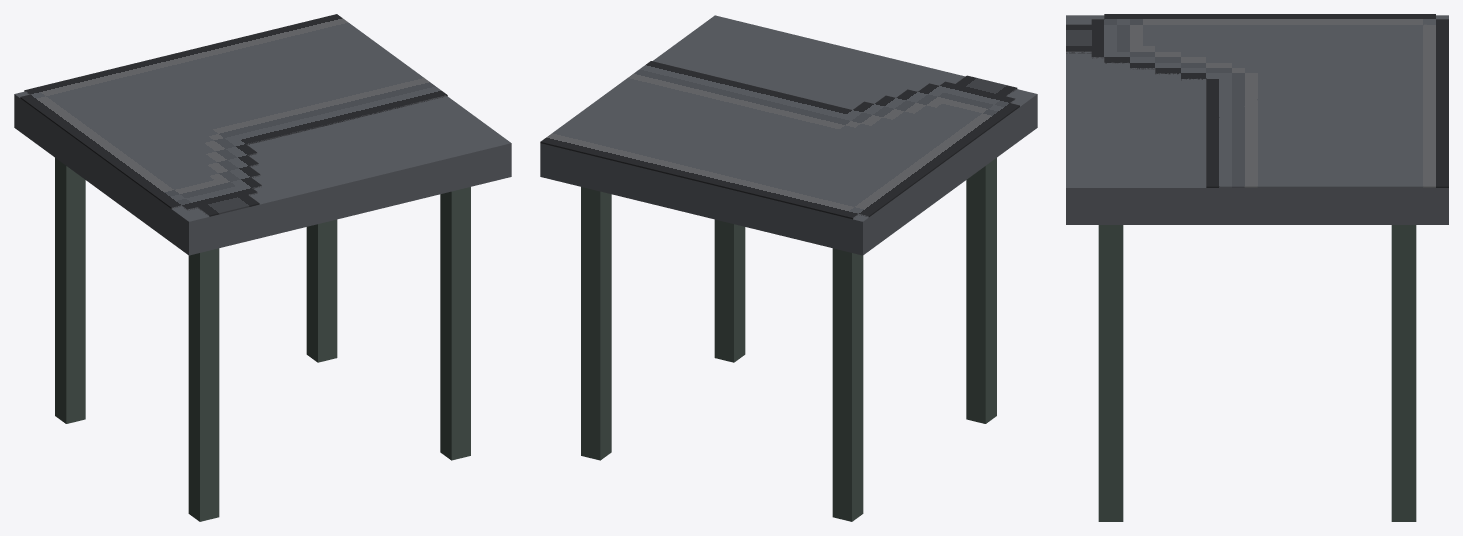
File: CMU3DInteriorRMCTableTOCWest.glb
3 renders of one model, left to right at view 1: azimuth 30°, elevation 25°; view 2: azimuth 150°, elevation 25°; view 3: azimuth 270°, elevation 25°, orthographic. The views are drawn at different scales.
Visible parts, largest first — view 1: source table surface, tabletop, table leg (×4); view 2: source table surface, tabletop, table leg (×4); view 3: source table surface, tabletop, table leg (×2).
Boxes of the visible parts, x1,y1,x2,y2 form: source table surface: [20, 14, 447, 216]; tabletop: [14, 91, 511, 255]; table leg (×4): [55, 158, 470, 521]; source table surface: [540, 61, 1019, 219]; tabletop: [540, 15, 1037, 255]; table leg (×4): [581, 158, 996, 521]; source table surface: [1066, 14, 1448, 187]; tabletop: [1066, 15, 1448, 224]; table leg (×2): [1098, 225, 1416, 521].
Size of the model in its own units: 1 by 0.944 by 0.9375.
Materials: 3 (1 with a texture image).
